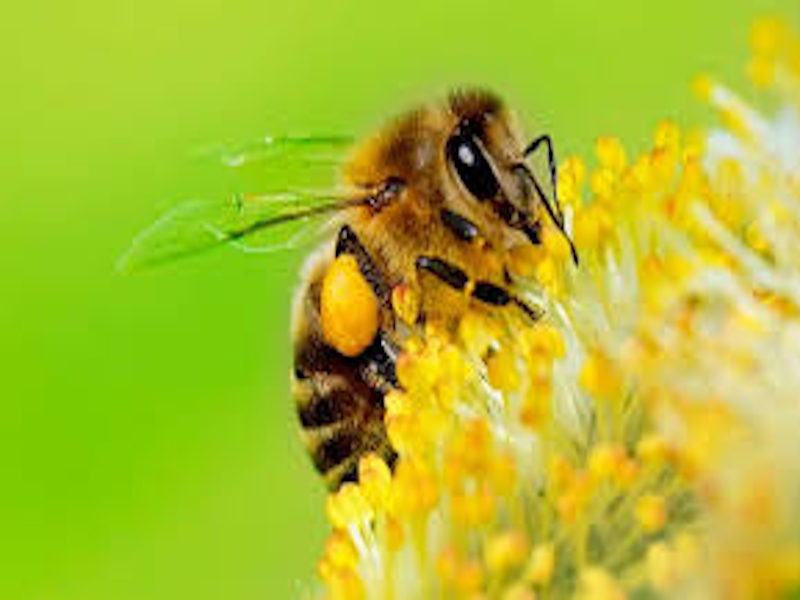abeja: (130, 54, 593, 522)
